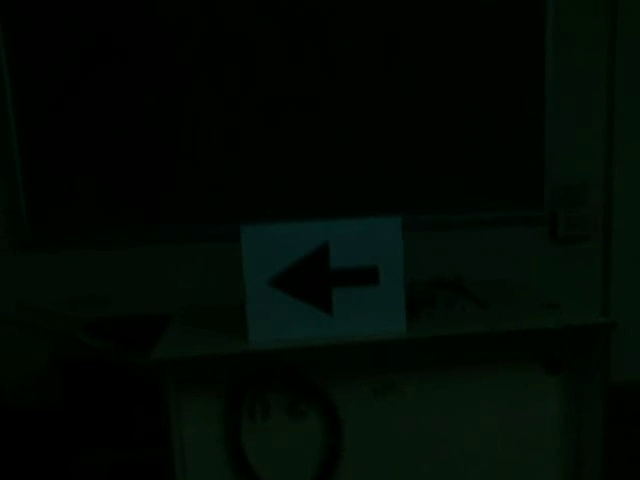Left: (259, 230, 388, 324)
